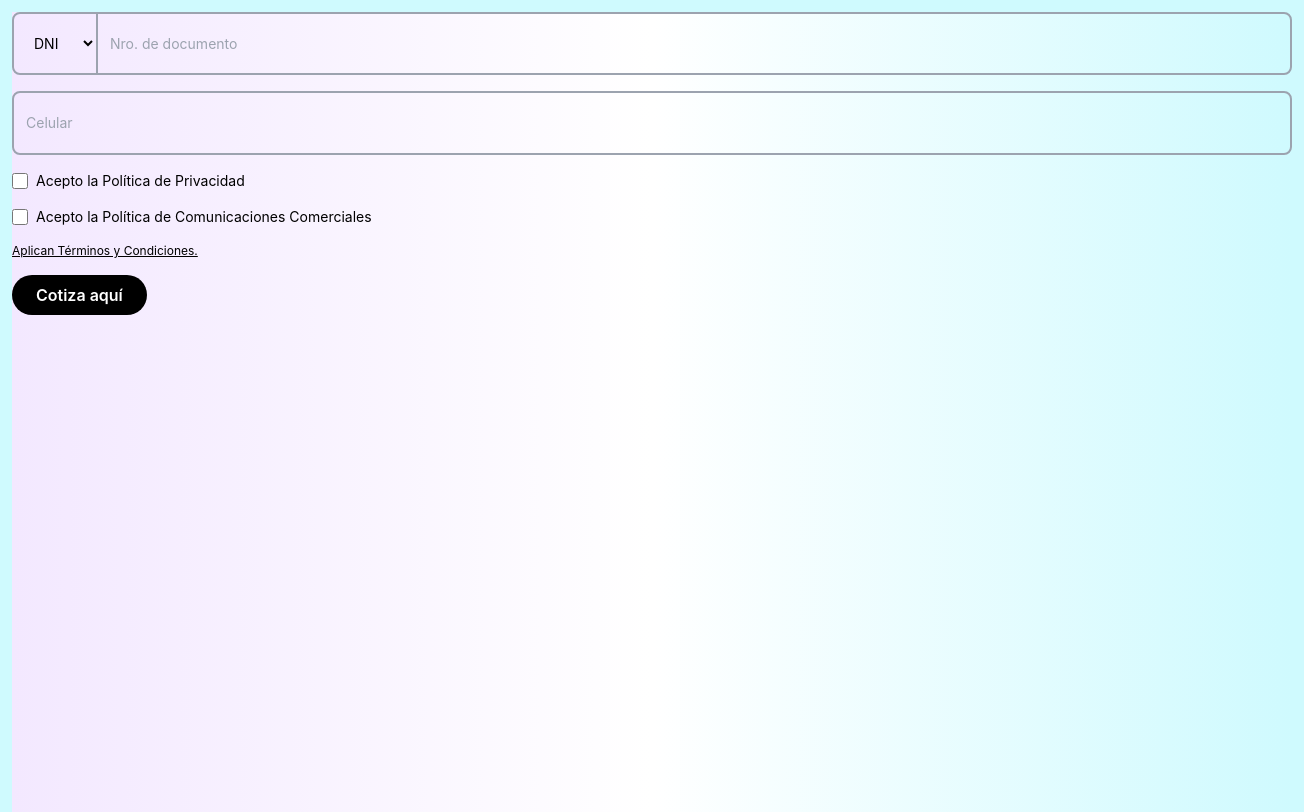
LoginForm component › debe mostrar error si el DNI o celular son incorrectos
This screenshot has width=1304, height=812.
In the field with placeholder "Nro. de documento": x=694, y=44 x1=98 y1=14 x2=1290 y2=73, type "11111111"
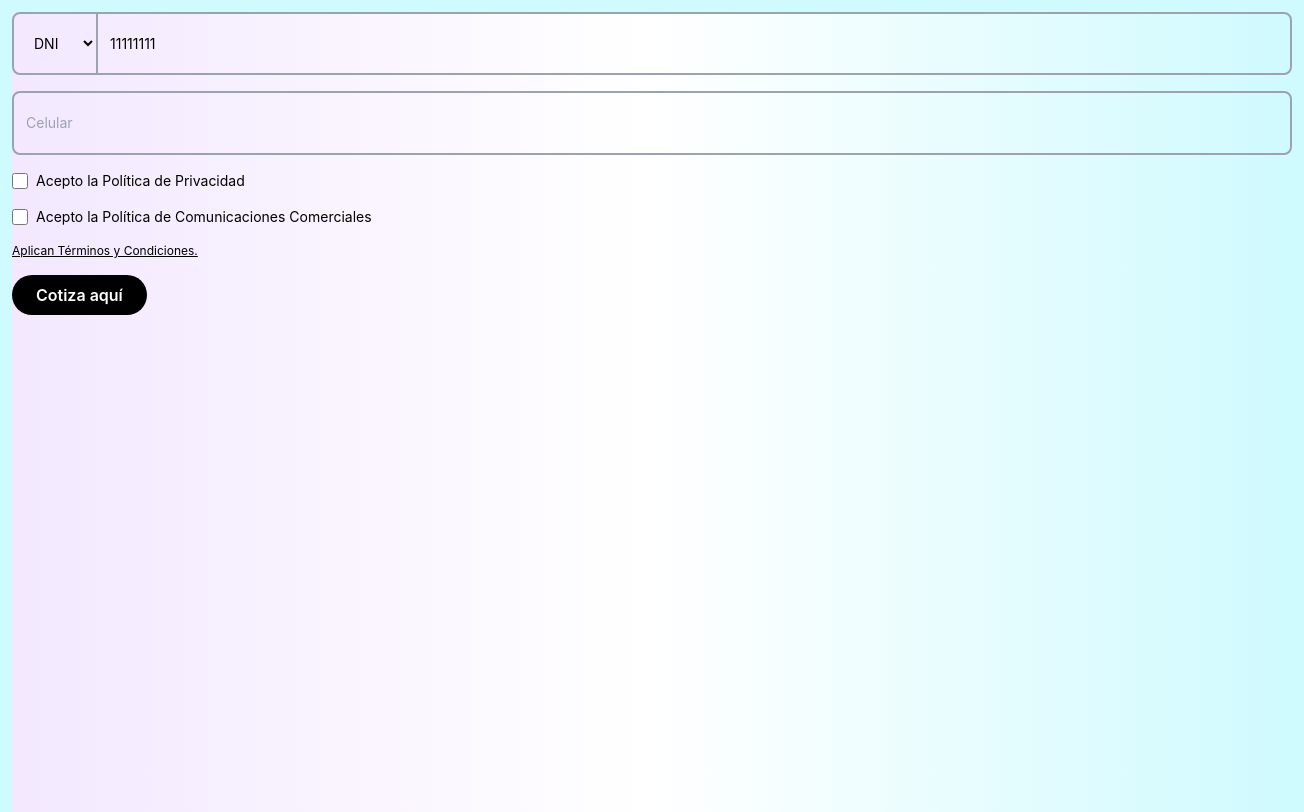
In the field with placeholder "Celular": x=652, y=123 x1=12 y1=91 x2=1292 y2=155, type "999999999"
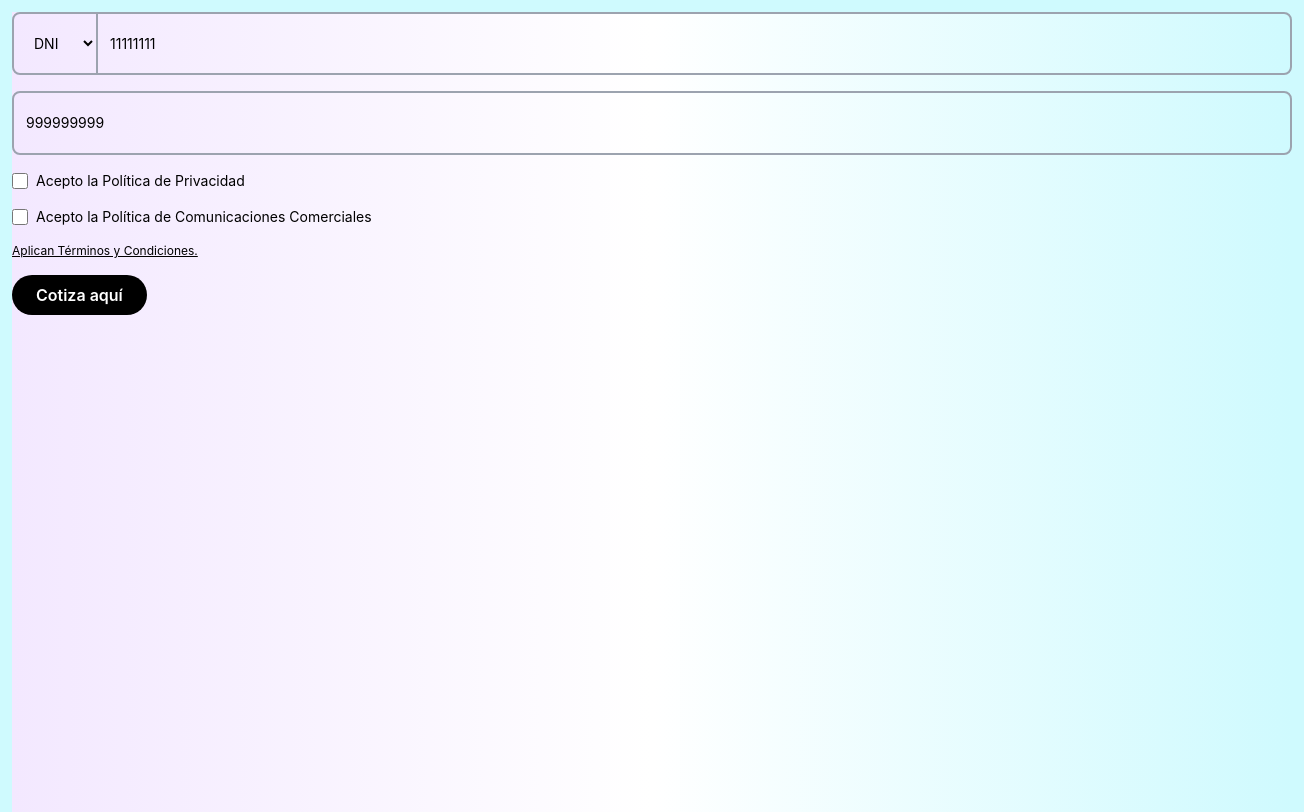
Click the checkbox labelled "Acepto la Política de Privacidad": x=20, y=181 x1=12 y1=173 x2=28 y2=189
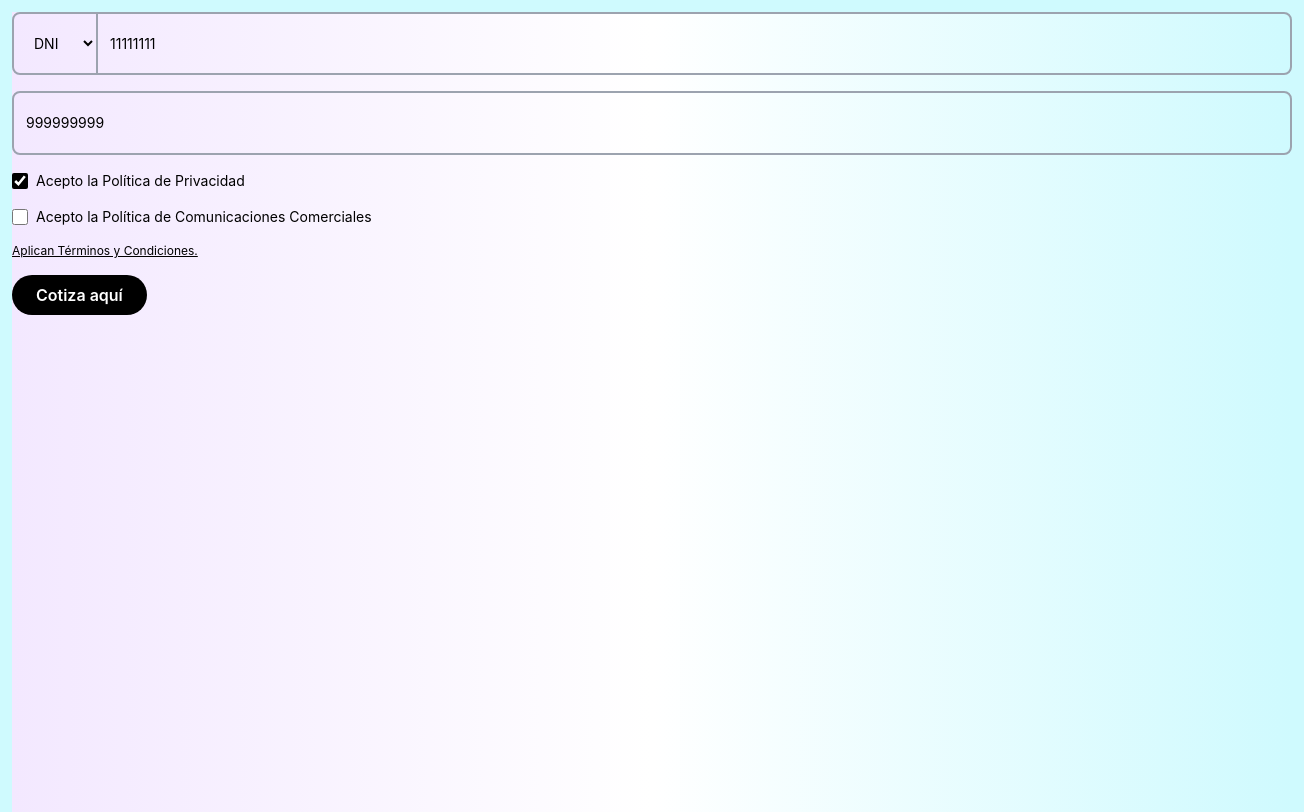
Click the checkbox labelled "Acepto la Política de Comunicaciones Comerciales": x=20, y=217 x1=12 y1=209 x2=28 y2=225
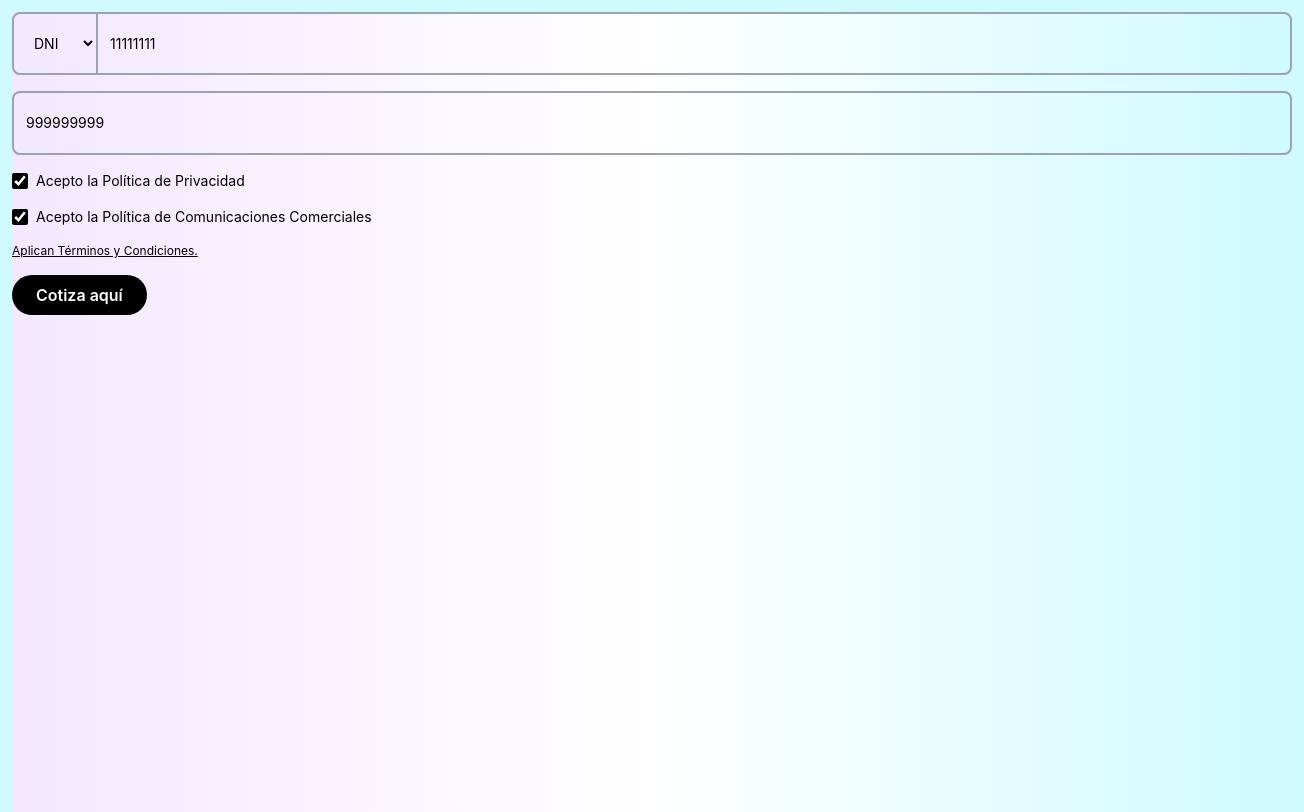
Click the button "Cotiza aquí": x=79, y=295 x1=12 y1=275 x2=147 y2=315
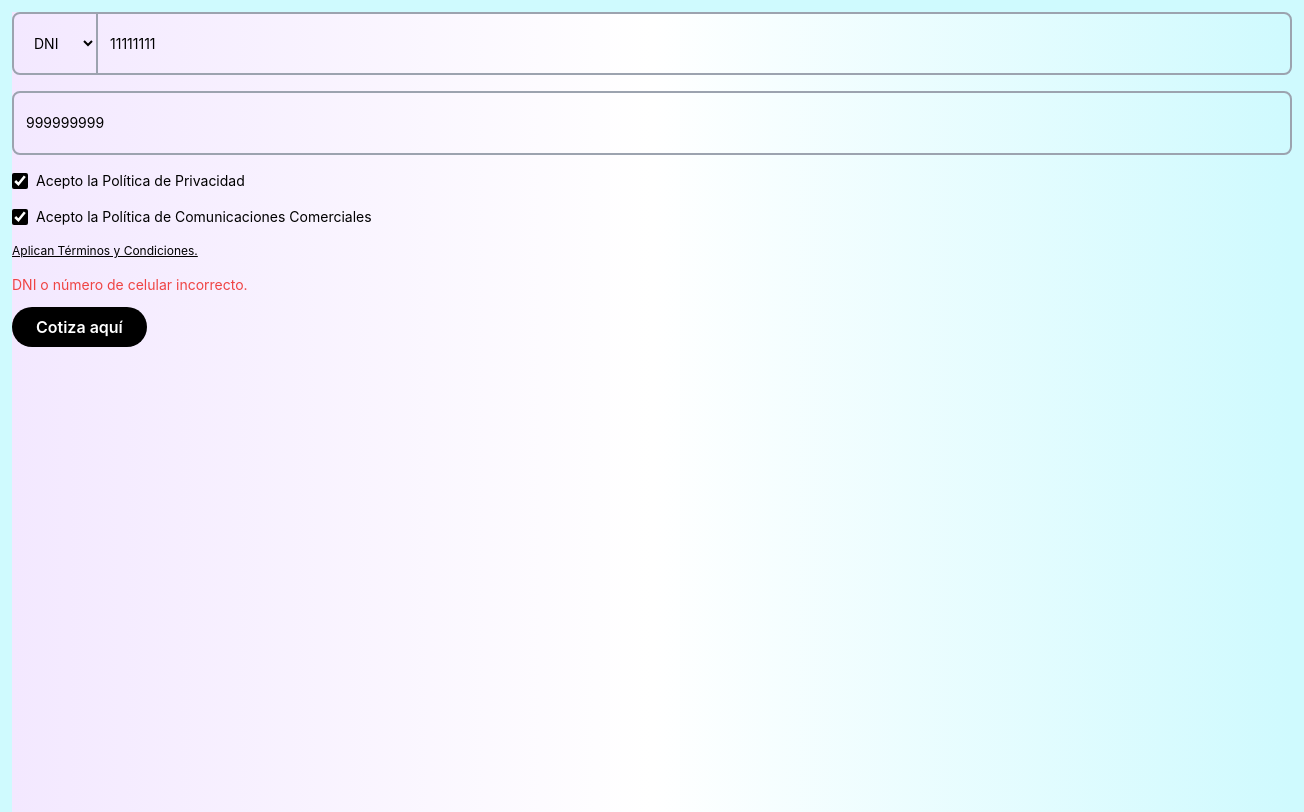
expect the text "DNI o número de celular incorrecto." is shown: met, box x1=12 y1=276 x2=248 y2=293
